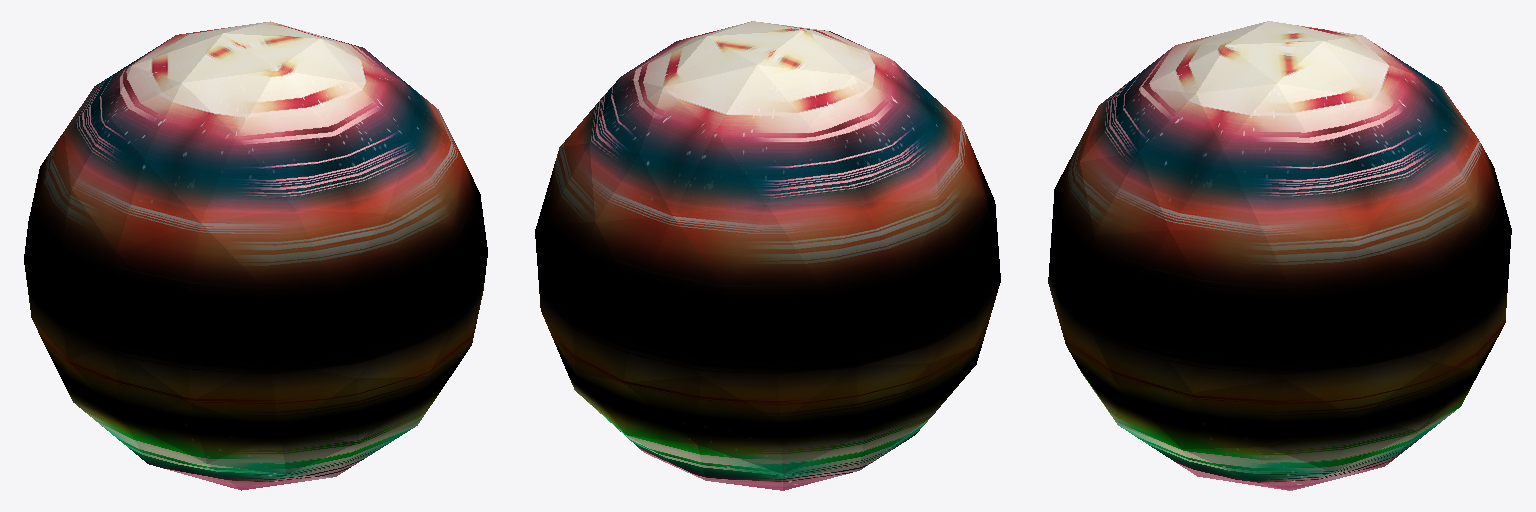
3 renders of one model, left to right at view 1: azimuth 30°, elevation 25°; view 2: azimuth 150°, elevation 25°; view 3: azimuth 270°, elevation 25°, orthographic.
Parts seen in each view (by area): view 1: temp:Light_Sphere temp:SkyLight temp:StarWall temp:polySurface2 ; view 2: temp:Light_Sphere temp:SkyLight temp:StarWall temp:polySurface2 ; view 3: temp:Light_Sphere temp:SkyLight temp:StarWall temp:polySurface2 .
Part boxes in pixels (left/top/right/bottom): temp:Light_Sphere temp:SkyLight temp:StarWall temp:polySurface2 : left=24, top=21, right=487, bottom=490; temp:Light_Sphere temp:SkyLight temp:StarWall temp:polySurface2 : left=535, top=21, right=1000, bottom=490; temp:Light_Sphere temp:SkyLight temp:StarWall temp:polySurface2 : left=1048, top=21, right=1511, bottom=490.
Bounding box in the file's own units: 24.01 × 23.72 × 23.79.
1 materials, 1 textured.